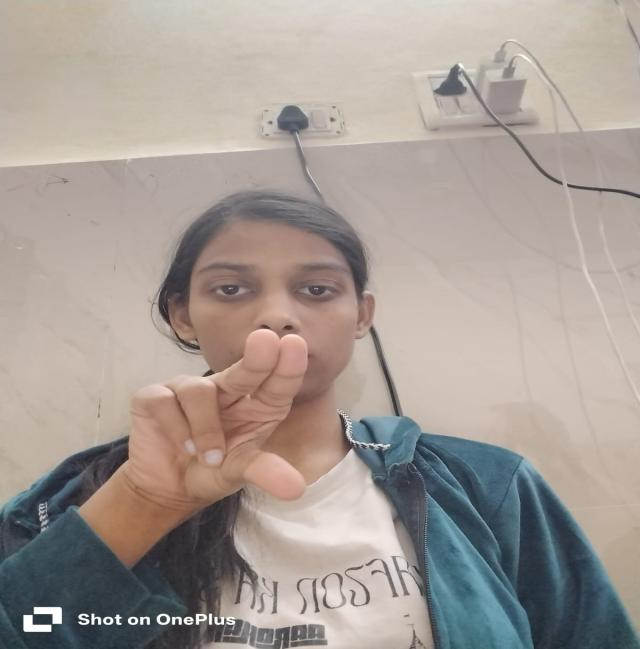No: (107, 319, 343, 528)
